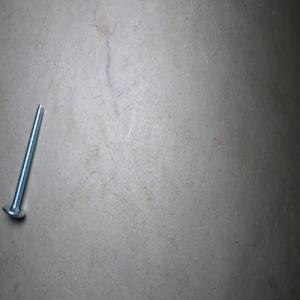Bolt: (1, 102, 44, 219)
